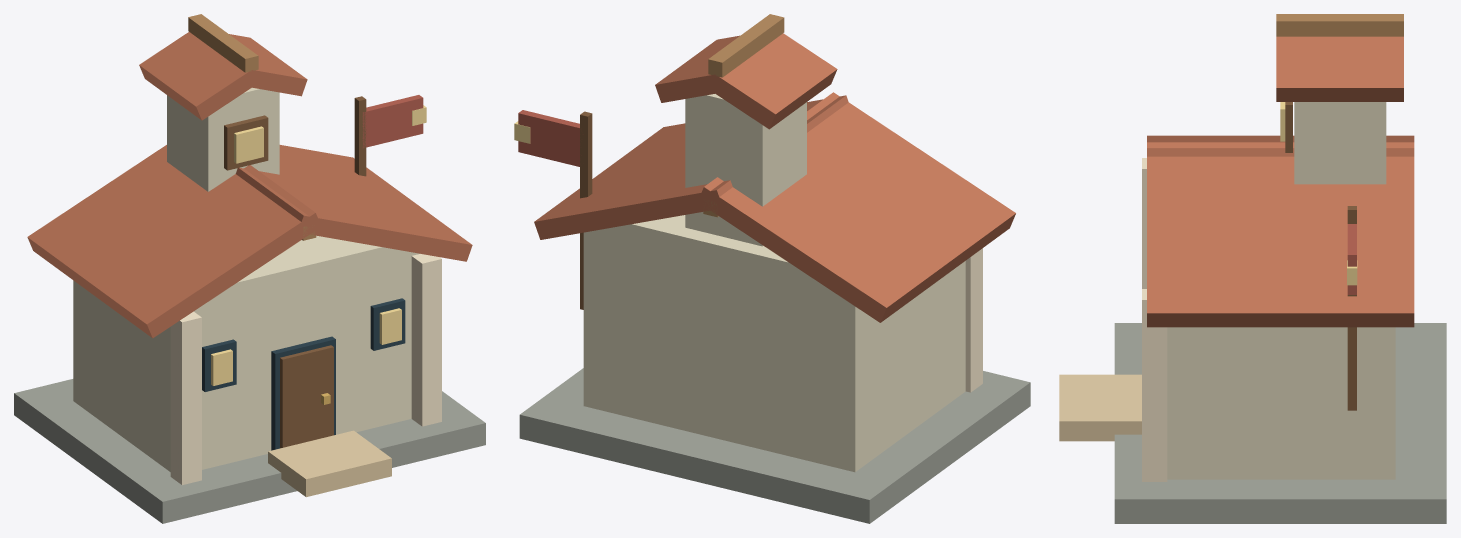
The model's file is town_hall.glb.
The picture shows the model from 3 angles, left to right: view 1: azimuth 30°, elevation 25°; view 2: azimuth 150°, elevation 25°; view 3: azimuth 270°, elevation 25°; orthographic projection. The views are drawn at different scales.
Bounding box in the file's own units: 2.8 × 2.71 × 2.27.
